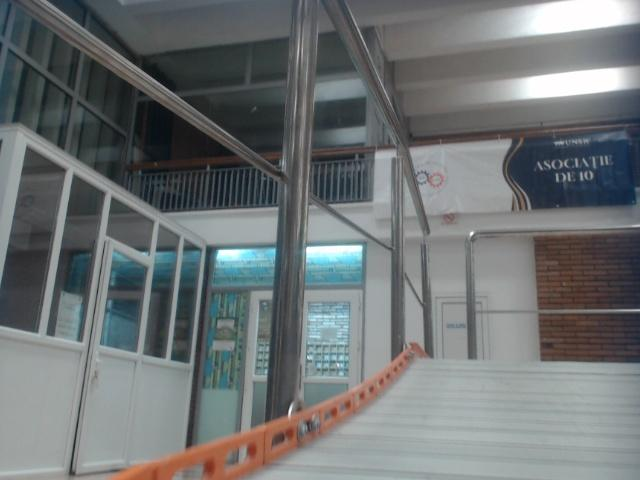rampUp: (103, 342, 639, 479)
ramps-railing: (10, 0, 427, 309), (319, 2, 426, 230), (464, 221, 639, 355), (264, 2, 318, 420), (389, 160, 405, 353), (419, 243, 435, 353)
